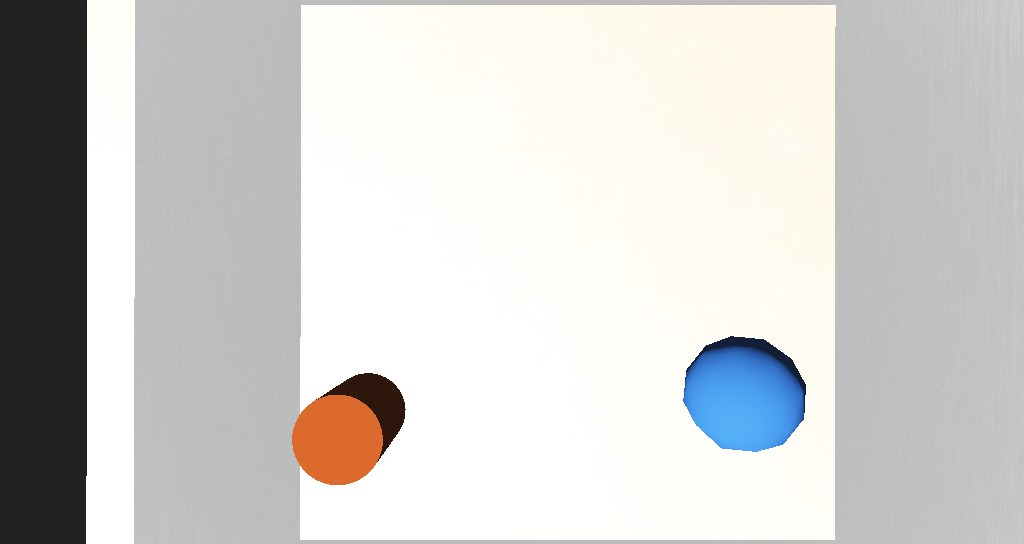cone: (357, 305, 411, 344)
cylinder: (842, 255, 990, 336)
sphere: (569, 293, 630, 336)
